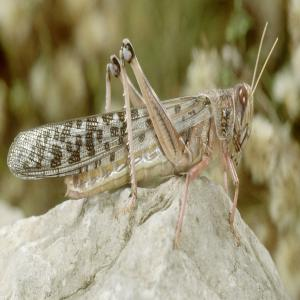locust: (6, 48, 266, 204)
